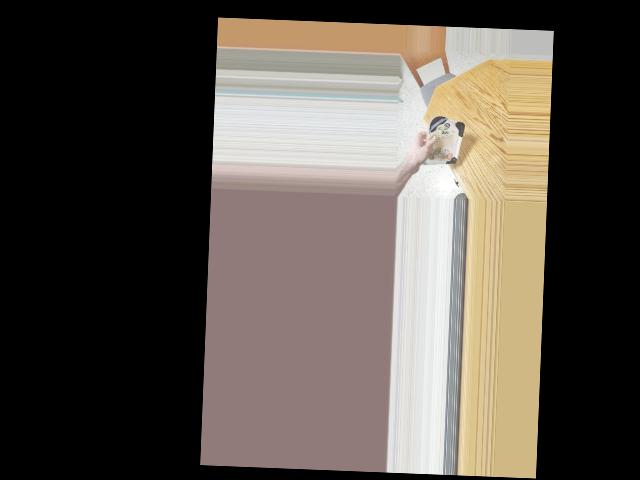cheese: (418, 114, 465, 168)
